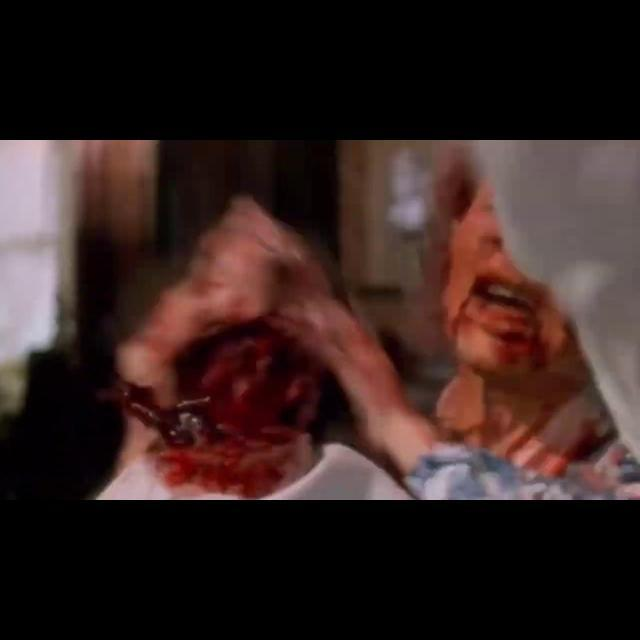blood: (124, 274, 618, 498)
